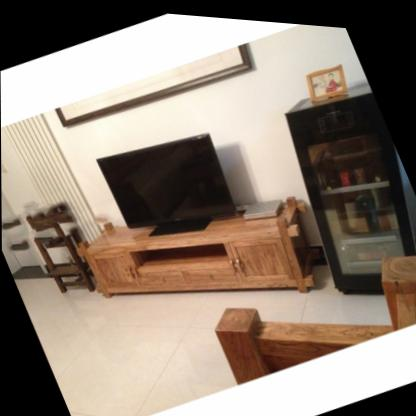Ceramic floor: (14, 277, 242, 416)
TV stand: (77, 191, 315, 296)
